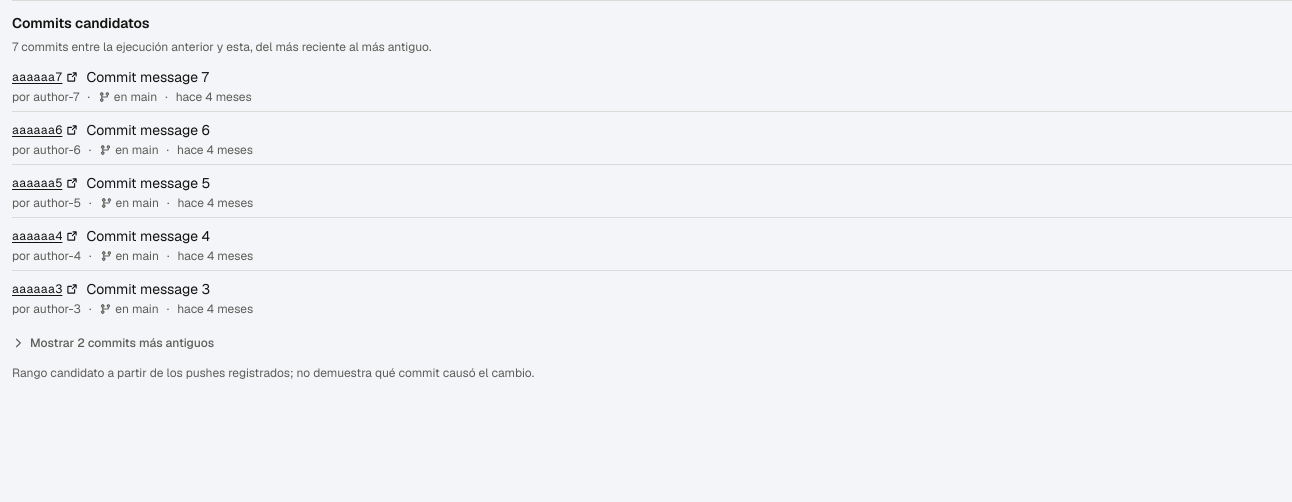
Test: CommitRangeBlock unknown › in spanish › translates the range block, the disclosure and the hint
Expected: the text "7 commits entre la ejecución anterior y esta, del más reciente al más antiguo." is shown, top-left (12, 39), bottom-right (431, 55)
Expected: the 1st list item shows "por author-7", top-left (12, 89), bottom-right (79, 105)
Click the button "Mostrar 2 commits más antiguos".
click(113, 343)  # box top-left (12, 327), bottom-right (214, 359)
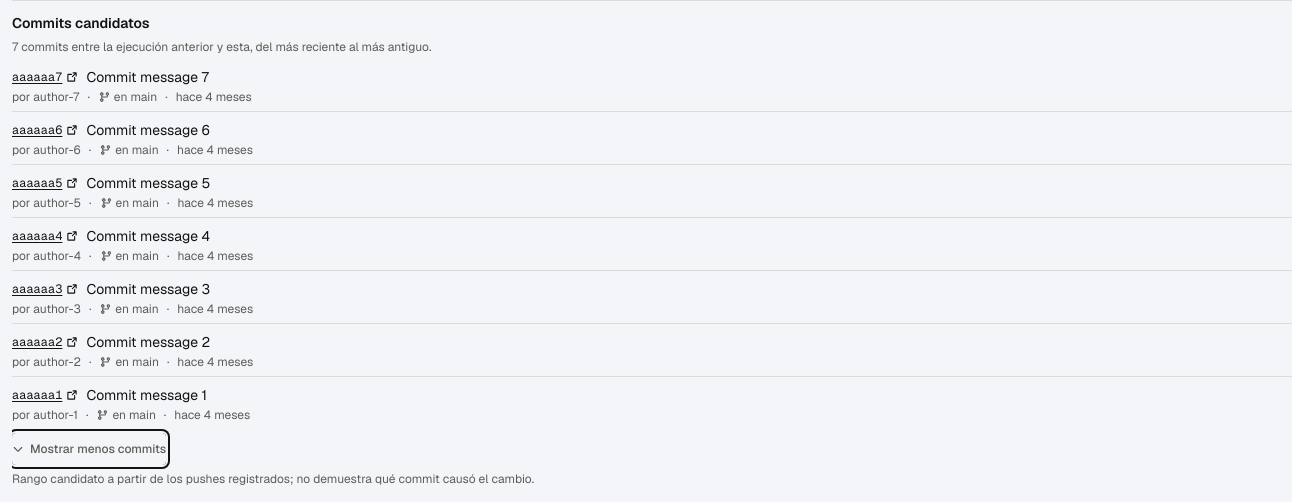
Now the button "Mostrar menos commits" is shown, box top-left (12, 433), bottom-right (166, 465)
